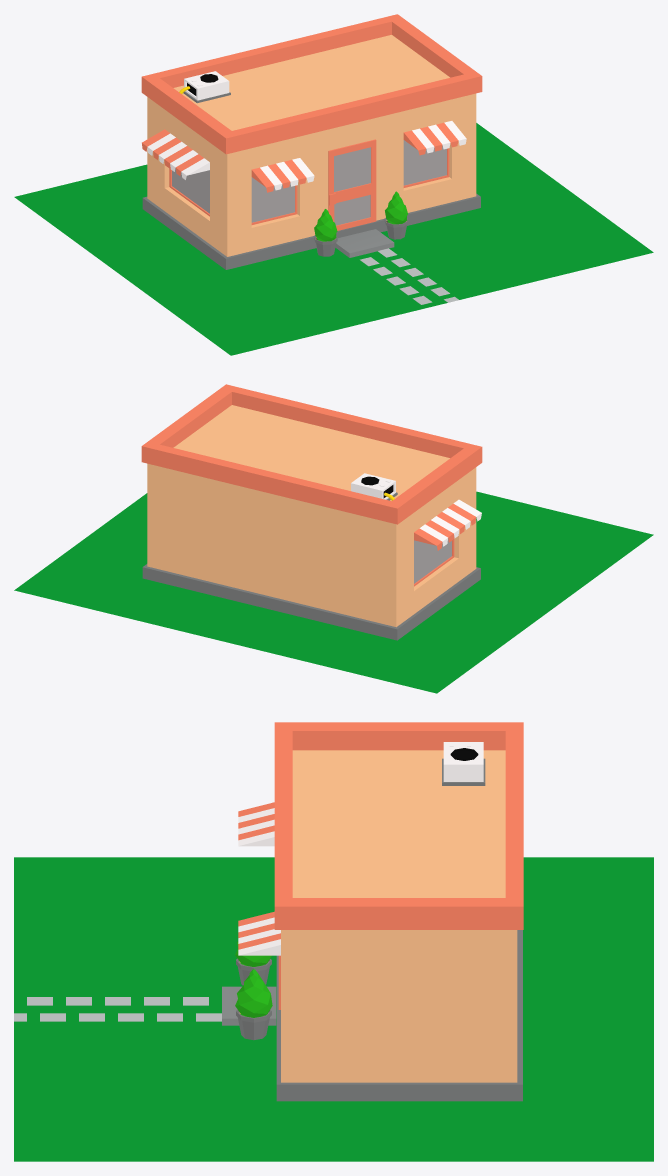
The model's file is Huisje-3.gltf.
3 views of the same model, one above another, from view 1: azimuth 30°, elevation 25°; view 2: azimuth 150°, elevation 25°; view 3: azimuth 270°, elevation 25° (orthographic). The views are drawn at different scales.
Parts seen in each view (by area): view 1: Cube; view 2: Cube; view 3: Cube.
Boxes of the visible parts, x1=… form: Cube: x1=14, y1=14, x2=653, y2=355; Cube: x1=14, y1=384, x2=653, y2=693; Cube: x1=14, y1=722, x2=653, y2=1161.
Bounding box in the file's own units: 17.54 × 5.32 × 15.59.
Materials: 1 (1 with a texture image).
